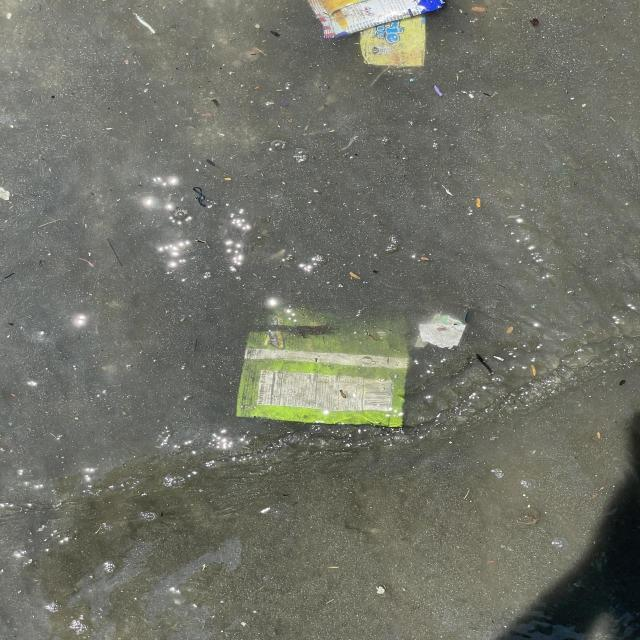plastic_waste: (242, 311, 416, 431), (302, 1, 444, 69)
